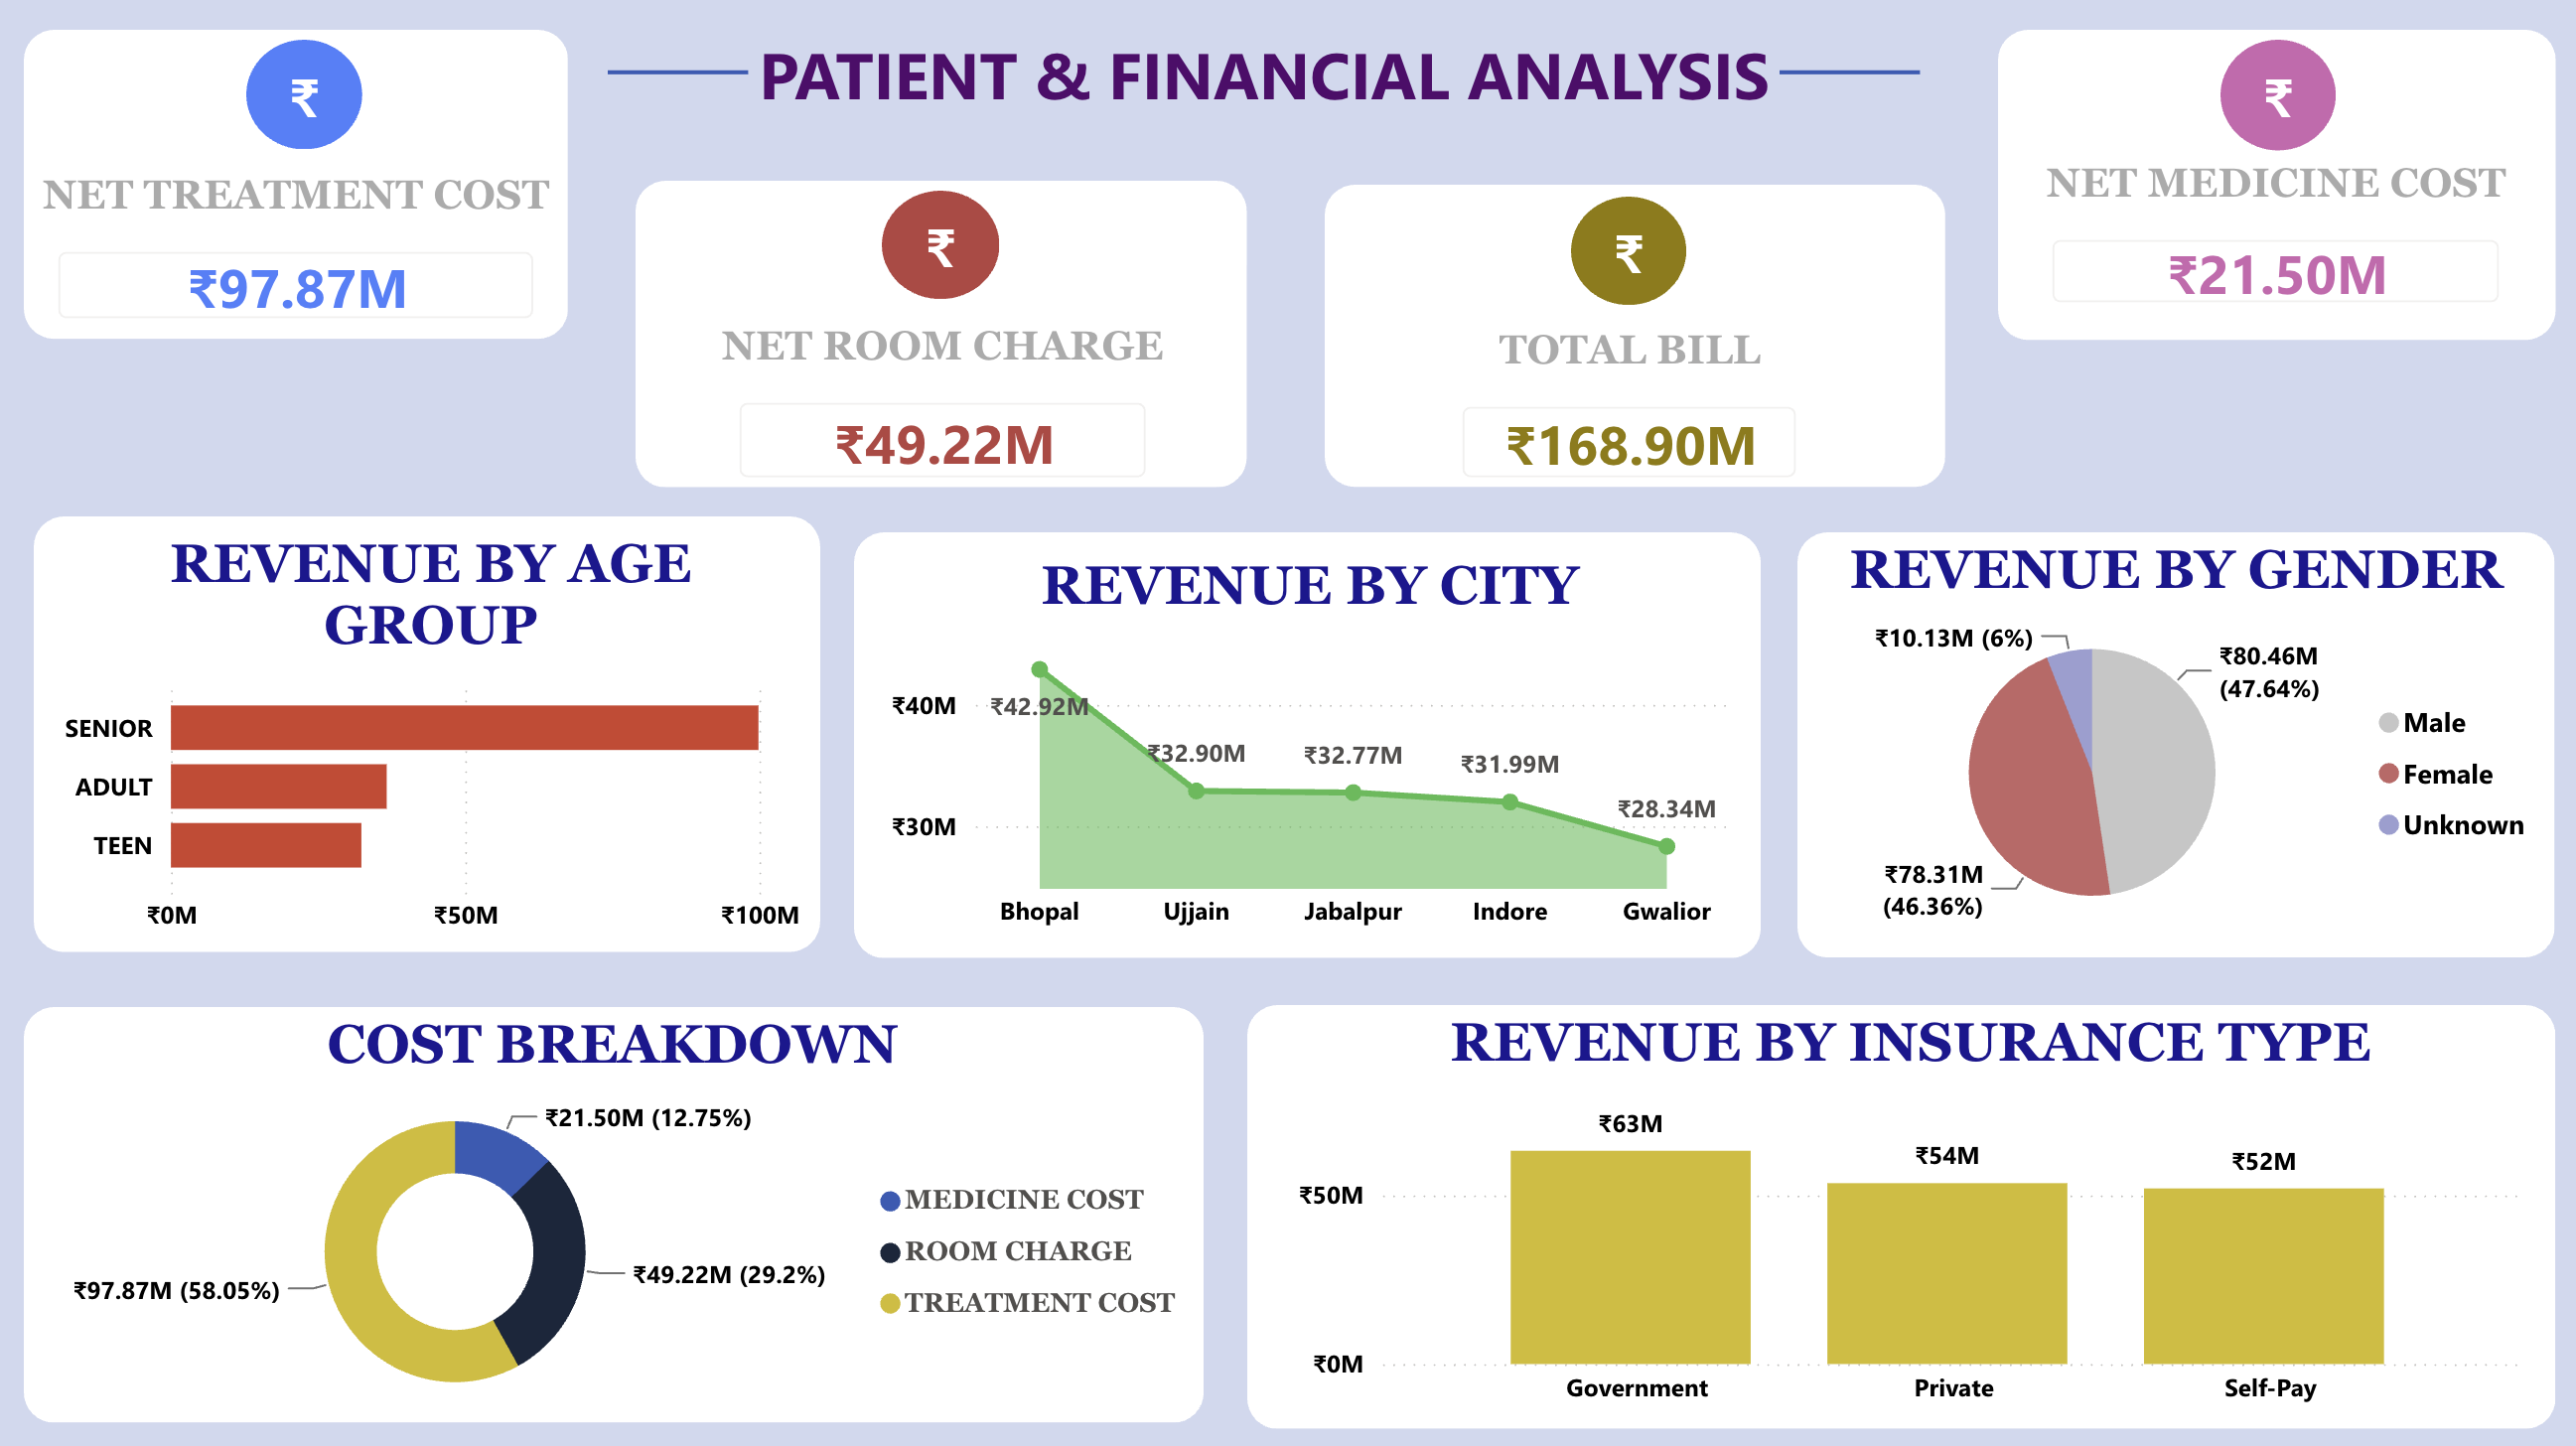

Layout of this report page (visuals, bound fields, positions):
{"tool":"powerbi","page":{"name":"Page 2","canvas":[1280,720],"ordinal":1},"visuals":[{"type":"shape","title":"rev back","box":[891,265.5,374.5,210.3],"z":0},{"type":"shape","title":"rev back","box":[424.3,265.1,448.5,210.6],"z":1000},{"type":"shape","title":"rev back","box":[618.8,498.9,647.1,209.6],"z":2000},{"type":"shape","title":"rev back","box":[18.6,257.2,389,215.4],"z":3000},{"type":"shape","title":"rev back","box":[14.1,499.9,583.6,205.6],"z":4000},{"type":"shape","title":"rev back","box":[316,91.3,302.3,151.7],"z":5000},{"type":"shape","title":"rev back","box":[657.1,93.5,306.9,149.4],"z":6000},{"type":"shape","title":"rev back","box":[990.2,17,275.8,153.4],"z":7000},{"type":"shape","title":"rev back","box":[13.7,17.1,269.2,152.9],"z":8000},{"type":"cardVisual","title":"NET MEDICINE COST","fields":{"Data":["Sum(sql_hospital.Medicine_Cost)"]},"box":[1000.5,81,255.5,89],"z":9000},{"type":"cardVisual","title":"NET ROOM CHARGE","fields":{"Data":["Sum(sql_hospital.Room_Charges)"]},"box":[350.2,160.9,235,94.7],"z":10000},{"type":"cardVisual","title":"NET TREATMENT COST","fields":{"Data":["Sum(sql_hospital.Treatment_Cost)"]},"box":[13.7,86.7,269.2,90.1],"z":11000},{"type":"cardVisual","title":"TOTAL BILL","fields":{"Data":["Sum(sql_hospital.Total_Bill)"]},"box":[708.4,163.1,199.6,92.4],"z":12000},{"type":"textbox","box":[371.9,12.1,510,52.4],"z":13000},{"type":"shape","title":"netrev icon","box":[124,21.7,57.3,54.2],"z":14000},{"type":"columnChart","title":"REVENUE BY INSURANCE TYPE","fields":{"Category":["sql_hospital.Insurance_Type"],"Y":["Sum(sql_hospital.Total_Bill)"]},"box":[639,501.9,616.8,204.6],"z":15000},{"type":"donutChart","title":"COST BREAKDOWN","fields":{"Y":["Sum(sql_hospital.Medicine_Cost)","Sum(sql_hospital.Room_Charges)","Sum(sql_hospital.Treatment_Cost)"]},"box":[13.1,502.9,584.6,205.6],"z":16000},{"type":"lineChart","title":"REVENUE BY CITY","fields":{"Category":["sql_hospital.City"],"Y":["Sum(sql_hospital.Total_Bill)"]},"box":[437.4,276.2,425.3,194.5],"z":17000},{"type":"shape","title":"netrev icon","box":[1099.8,21.7,57,54.8],"z":18000},{"type":"pieChart","title":"REVENUE BY GENDER","fields":{"Category":["sql_hospital.Gender"],"Y":["Sum(sql_hospital.Total_Bill)"]},"box":[891,268.1,374.5,201.1],"z":19000},{"type":"shape","box":[881.8,17.1,69.7,42.1],"z":20000},{"type":"shape","box":[302.3,17.1,69.7,42.1],"z":21000},{"type":"shape","title":"netrev icon","box":[779.2,99.3,57,53.6],"z":22000},{"type":"shape","title":"netrev icon","box":[438.1,95.8,58.2,53.6],"z":23000},{"type":"barChart","title":"REVENUE BY AGE GROUP","fields":{"Category":["sql_hospital.age_group"],"Y":["Sum(sql_hospital.Total_Bill)"]},"box":[27.9,265,375,207.7],"z":24000}]}

Visuals, with their boxes in screenshot pixels (x1, y1, x2, y2), scaled from the page's 1280x720 canvas onto the 2576x1446 screenshot:
"rev back" shape: select_region(1793, 533, 2547, 955)
"rev back" shape: select_region(854, 532, 1757, 955)
"rev back" shape: select_region(1245, 1002, 2547, 1423)
"rev back" shape: select_region(38, 516, 820, 949)
"rev back" shape: select_region(29, 1004, 1203, 1417)
"rev back" shape: select_region(636, 184, 1244, 488)
"rev back" shape: select_region(1323, 188, 1940, 488)
"rev back" shape: select_region(1993, 34, 2548, 343)
"rev back" shape: select_region(28, 35, 569, 342)
"NET MEDICINE COST" cardVisual: select_region(2014, 163, 2527, 342)
"NET ROOM CHARGE" cardVisual: select_region(705, 323, 1178, 513)
"NET TREATMENT COST" cardVisual: select_region(28, 174, 569, 356)
"TOTAL BILL" cardVisual: select_region(1426, 328, 1827, 513)
textbox: select_region(749, 24, 1775, 129)
"netrev icon" shape: select_region(249, 44, 364, 152)
"REVENUE BY INSURANCE TYPE" columnChart: select_region(1286, 1008, 2527, 1419)
"COST BREAKDOWN" donutChart: select_region(27, 1010, 1203, 1423)
"REVENUE BY CITY" lineChart: select_region(880, 555, 1736, 945)
"netrev icon" shape: select_region(2214, 44, 2328, 154)
"REVENUE BY GENDER" pieChart: select_region(1793, 538, 2547, 942)
shape: select_region(1775, 35, 1915, 119)
shape: select_region(609, 35, 749, 119)
"netrev icon" shape: select_region(1568, 200, 1683, 307)
"netrev icon" shape: select_region(882, 193, 999, 300)
"REVENUE BY AGE GROUP" barChart: select_region(57, 532, 811, 949)
